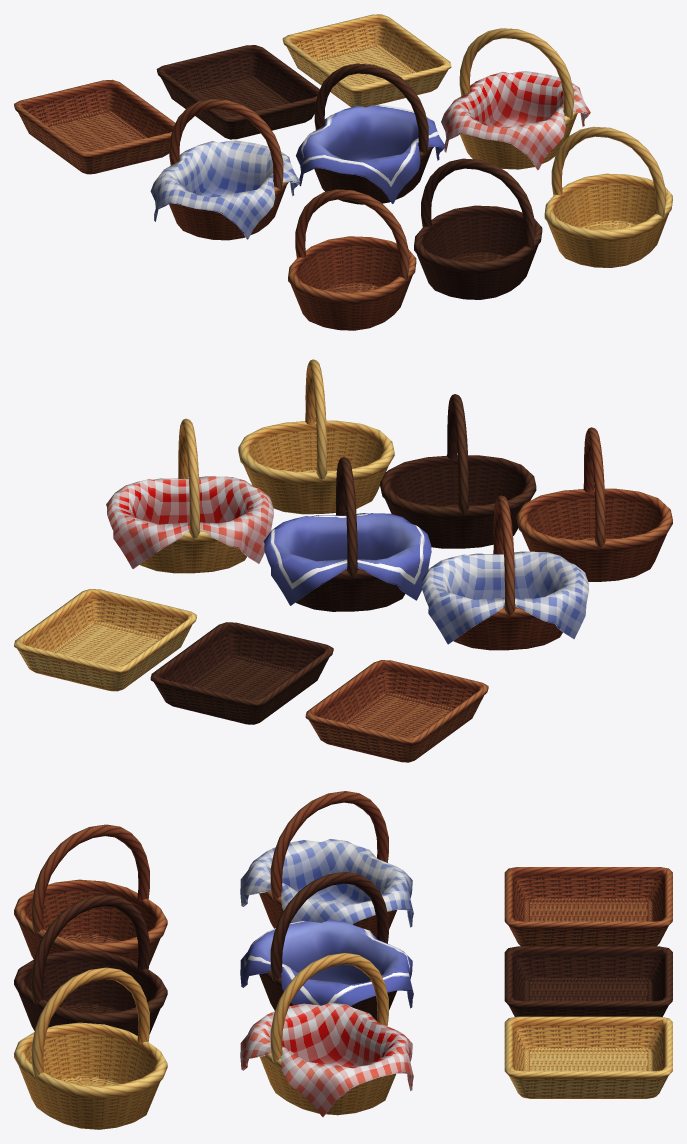
Rendered from Baskets and Basket Tray.fbx.
3 renders of one model, top to bottom at view 1: azimuth 30°, elevation 25°; view 2: azimuth 150°, elevation 25°; view 3: azimuth 270°, elevation 25°, orthographic. The views are drawn at different scales.
Parts seen in each view (by area): view 1: Basket_01, Basket_02, Basket_03, Basket_Tray_01, Basket_Tray_03, Basket_Tray_02, Basket_Cloth_04_1, Basket_Cloth_03_1, Basket_Cloth_01_1, Basket_01__1_, Basket_02__1_, Basket_03__1_; view 2: Basket_Tray_03, Basket_Tray_01, Basket_Tray_02, Basket_01, Basket_02, Basket_03, Basket_Cloth_03_1, Basket_Cloth_04_1, Basket_Cloth_01_1, Basket_03__1_, Basket_01__1_, Basket_02__1_; view 3: Basket_02, Basket_Tray_02, Basket_Tray_01, Basket_Tray_03, Basket_Cloth_01_1, Basket_03, Basket_01, Basket_Cloth_04_1, Basket_Cloth_03_1, Basket_02__1_, Basket_03__1_, Basket_01__1_.
Boxes of the visible parts, <box> form: Basket_01: <box>288,189,416,330</box>; Basket_02: <box>544,126,672,267</box>; Basket_03: <box>414,158,542,299</box>; Basket_Tray_01: <box>14,79,175,174</box>; Basket_Tray_03: <box>156,45,319,139</box>; Basket_Tray_02: <box>282,14,451,107</box>; Basket_Cloth_04_1: <box>296,105,445,203</box>; Basket_Cloth_03_1: <box>150,140,300,239</box>; Basket_Cloth_01_1: <box>441,71,590,170</box>; Basket_01__1_: <box>169,99,288,240</box>; Basket_02__1_: <box>459,28,577,169</box>; Basket_03__1_: <box>314,63,433,204</box>; Basket_Tray_03: <box>150,622,333,724</box>; Basket_Tray_01: <box>305,660,488,762</box>; Basket_Tray_02: <box>14,589,196,691</box>; Basket_01: <box>516,427,672,581</box>; Basket_02: <box>238,359,394,514</box>; Basket_03: <box>380,394,536,548</box>; Basket_Cloth_03_1: <box>421,551,588,644</box>; Basket_Cloth_04_1: <box>263,513,431,605</box>; Basket_Cloth_01_1: <box>106,476,273,568</box>; Basket_03__1_: <box>296,457,405,611</box>; Basket_01__1_: <box>453,495,562,650</box>; Basket_02__1_: <box>139,418,246,573</box>; Basket_02: <box>14,967,167,1129</box>; Basket_Tray_02: <box>504,1016,672,1098</box>; Basket_Tray_01: <box>504,867,672,946</box>; Basket_Tray_03: <box>504,946,672,1016</box>; Basket_Cloth_01_1: <box>240,1002,413,1117</box>; Basket_03: <box>14,894,167,1035</box>; Basket_01: <box>14,824,167,964</box>; Basket_Cloth_04_1: <box>240,919,413,1008</box>; Basket_Cloth_03_1: <box>240,839,413,927</box>; Basket_02__1_: <box>260,953,396,1115</box>; Basket_03__1_: <box>259,872,396,1020</box>; Basket_01__1_: <box>259,791,396,938</box>.
Bounding box in the file's own units: 448 × 136 × 516.
4 materials, 4 textured.
